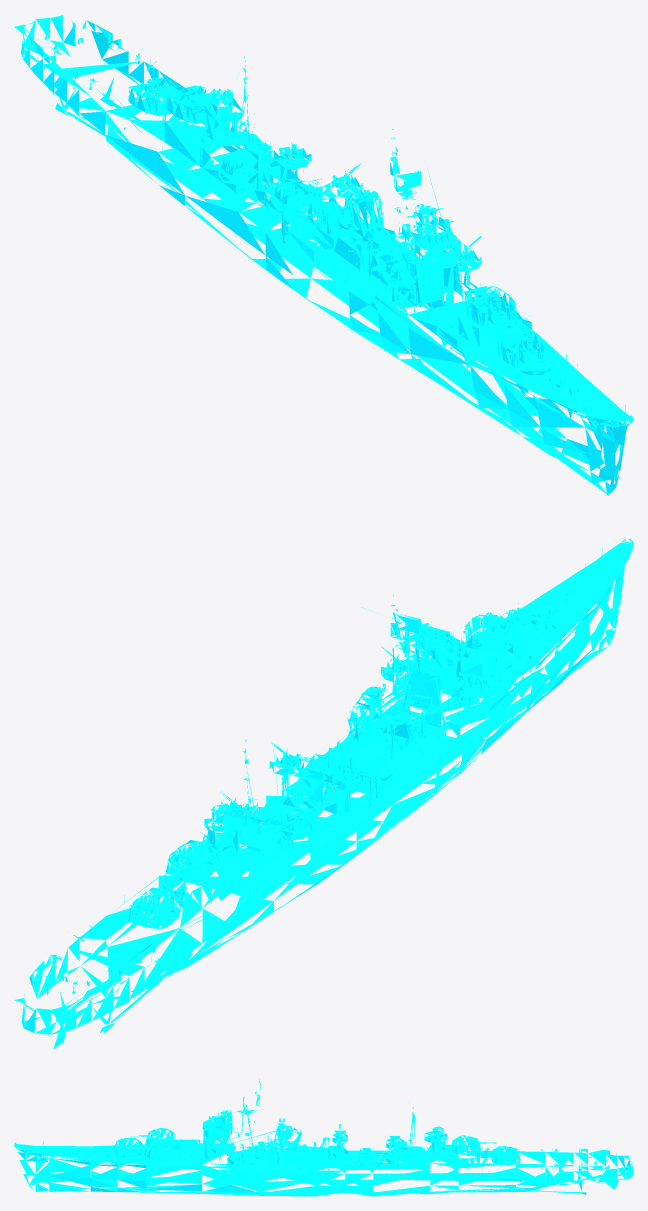
File: Kitakaze.glb
3 renders of one model, top to bottom at view 1: azimuth 30°, elevation 25°; view 2: azimuth 150°, elevation 25°; view 3: azimuth 270°, elevation 25°, orthographic. The views are drawn at different scales.
Size of the model in its own units: 0.8675 by 1.81 by 8.93.
